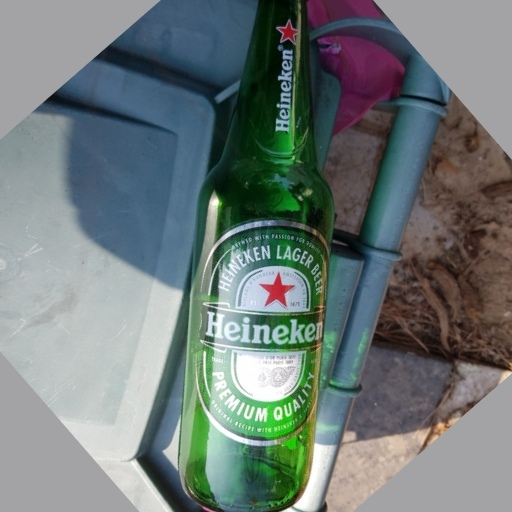Glass_1: (171, 3, 340, 512)
